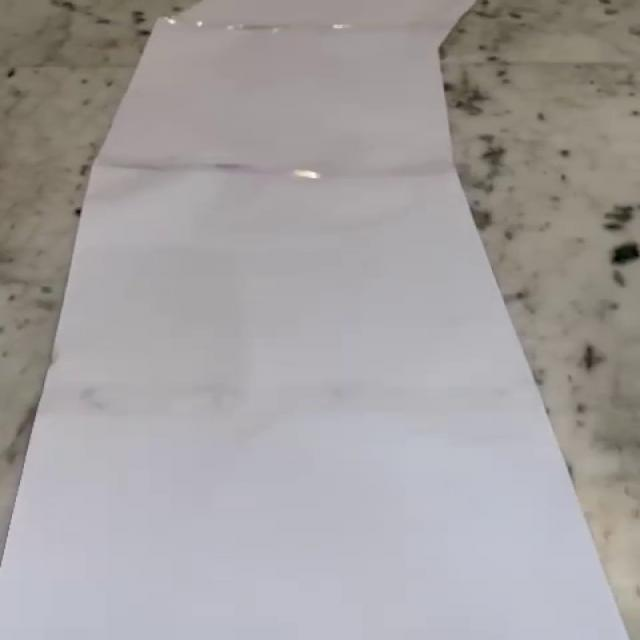road: (3, 0, 628, 640)
